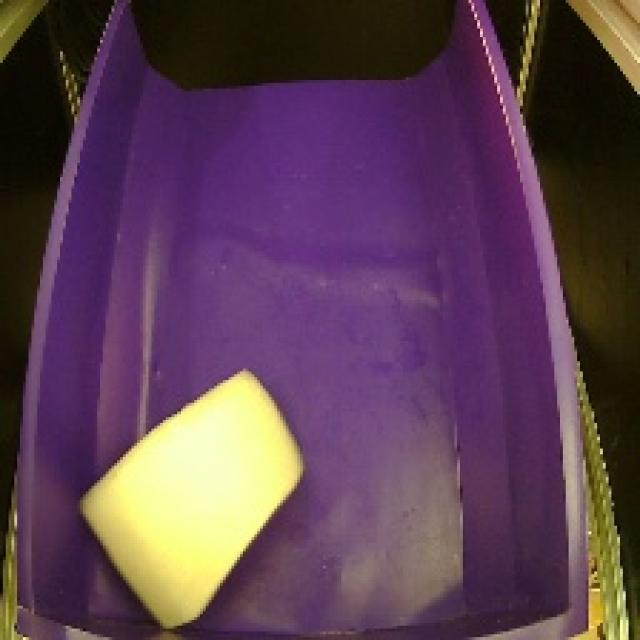white_radish: (70, 365, 323, 639)
